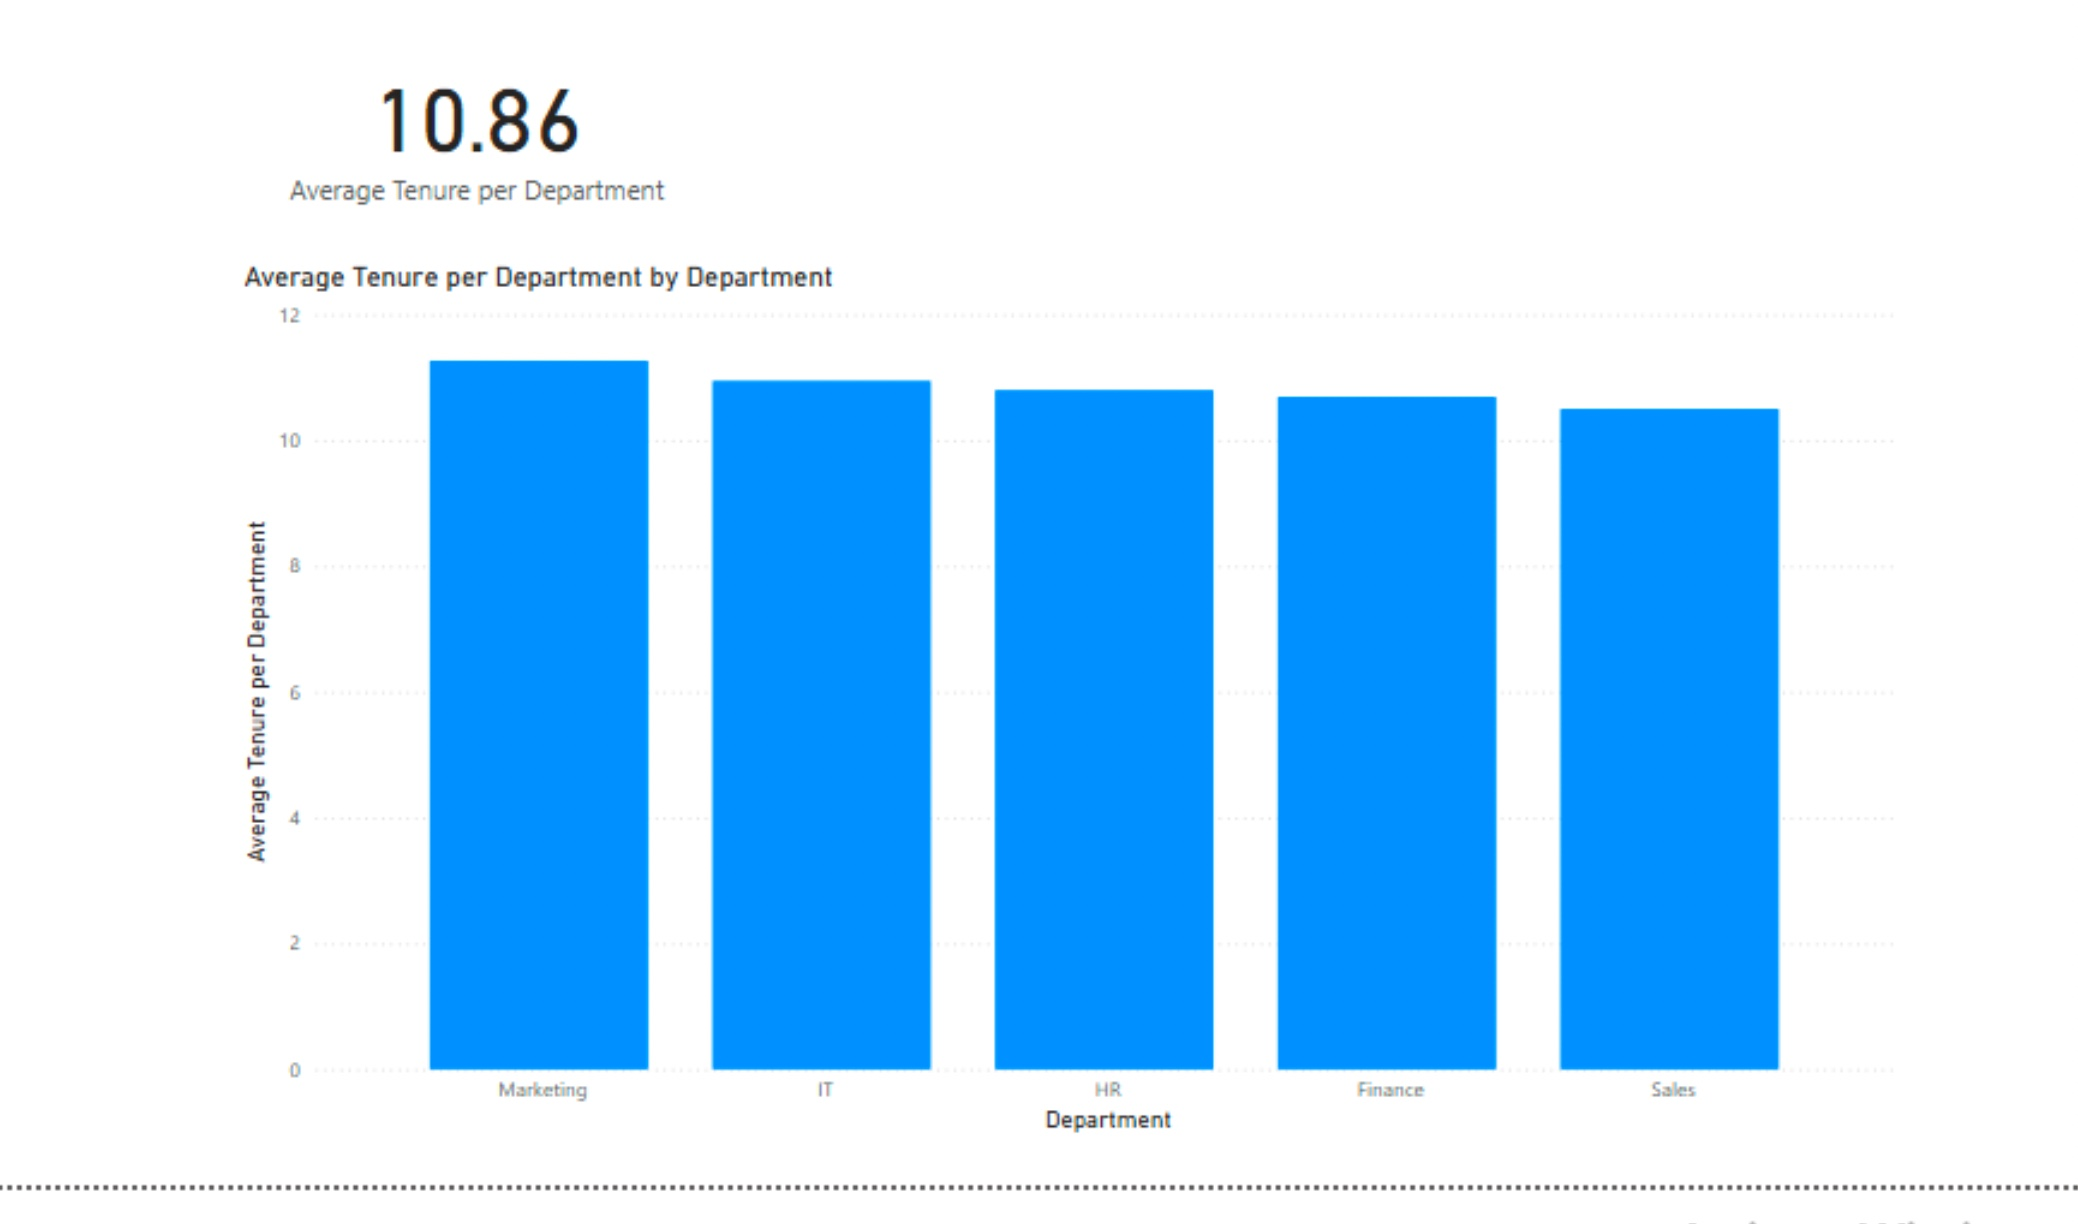

The dashboard page shown, as its layout file describes it:
{"tool":"powerbi","page":{"name":"Page 1","canvas":[1280,720],"ordinal":0},"visuals":[{"type":"card","fields":{"Values":["Table.Average Tenure per Department"]},"box":[160.5,0,288.4,162.8],"z":0},{"type":"clusteredColumnChart","fields":{"Category":["EmployeeData.Department"],"Y":["Table.Average Tenure per Department"]},"box":[160,162.2,1008.9,531.1],"z":1}]}

Visuals, with their boxes on the page's 1280x720 design canvas (x1, y1, x2, y2). These are canvas units, not pixel positions in the 2078x1224 screenshot, which may show the page scaled, cropped or inside an application window:
card - Table.Average Tenure per Department: region(160, 0, 449, 163)
clusteredColumnChart - EmployeeData.Department x Table.Average Tenure per Department: region(160, 162, 1169, 693)
